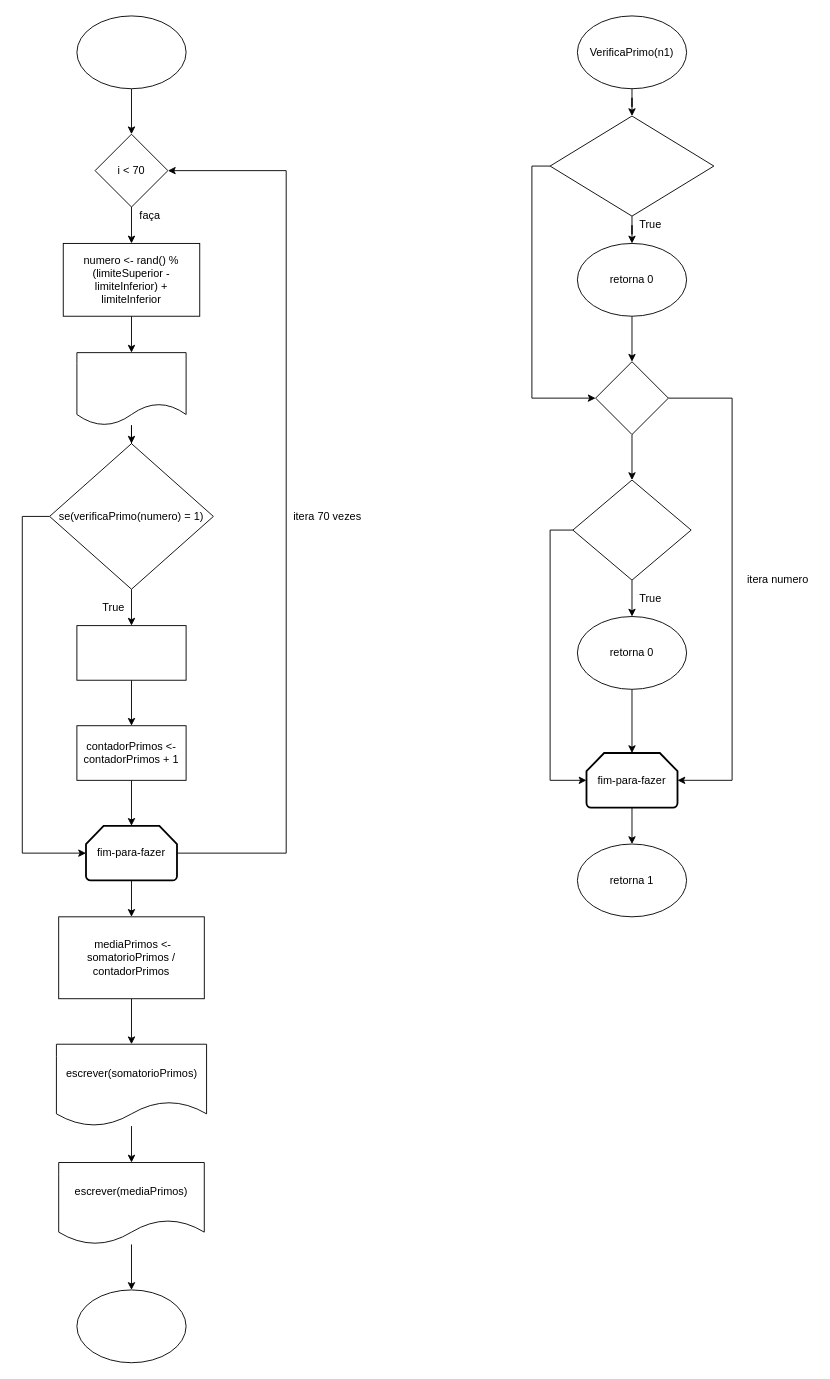
This 830x1379 diagram has some shape labels left out. The centre of each missing label's shape, as x and y in pixels:
escrever(numero): [131,388]
Fim: [131,1326]
i < numero: [631,398]
Inicio: [131,52]
se (numero % i = 0): [631,529]
se(numero = 0 || numero = 1): [631,165]
somatorioPrimos <- somatorioPrimos + numero: [131,652]
